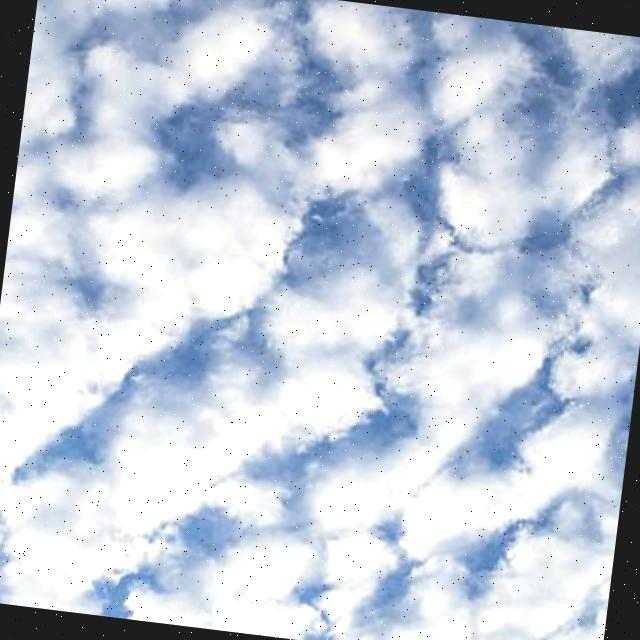Ac: (1, 1, 640, 634)
